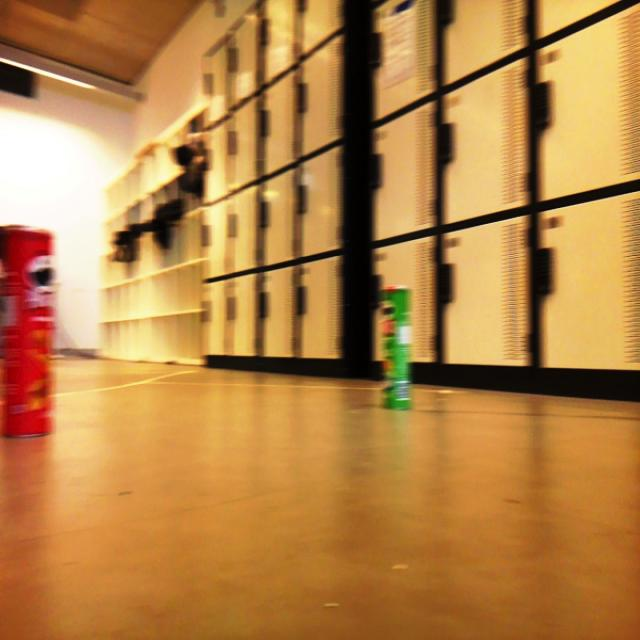greenpringles: (378, 267, 422, 422)
redpringles: (0, 209, 77, 463)
